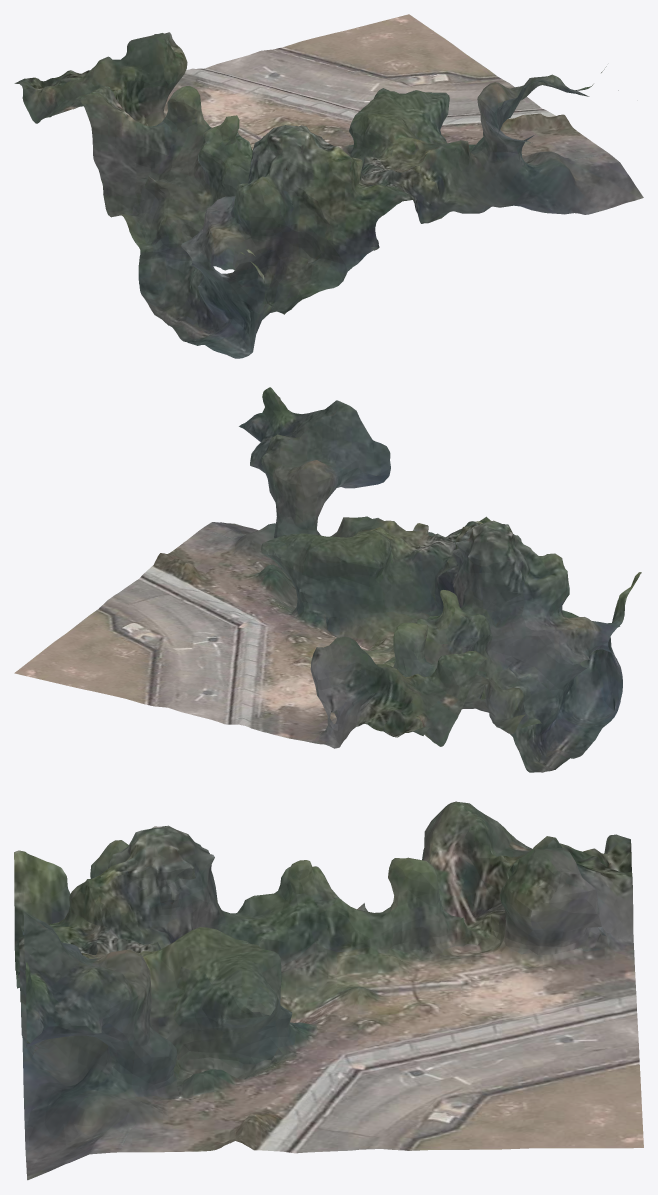
The model's file is Tile_+012_+009_L21_0000010000.glb.
3 views of the same model, one above another, from view 1: azimuth 30°, elevation 25°; view 2: azimuth 150°, elevation 25°; view 3: azimuth 270°, elevation 25° (orthographic). The views are drawn at different scales.
Visible parts, largest first — view 1: rtc; view 2: rtc; view 3: rtc.
Boxes of the visible parts, x1,y1,x2,y2 form: rtc: (14,14,643,358); rtc: (14,387,641,772); rtc: (14,801,643,1180).
Size of the model in its own units: 32.61 by 17.97 by 32.02.
1 material, 1 textured.
